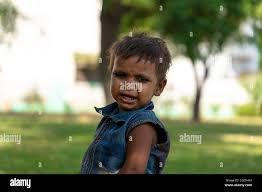Human: (87, 28, 178, 181)
